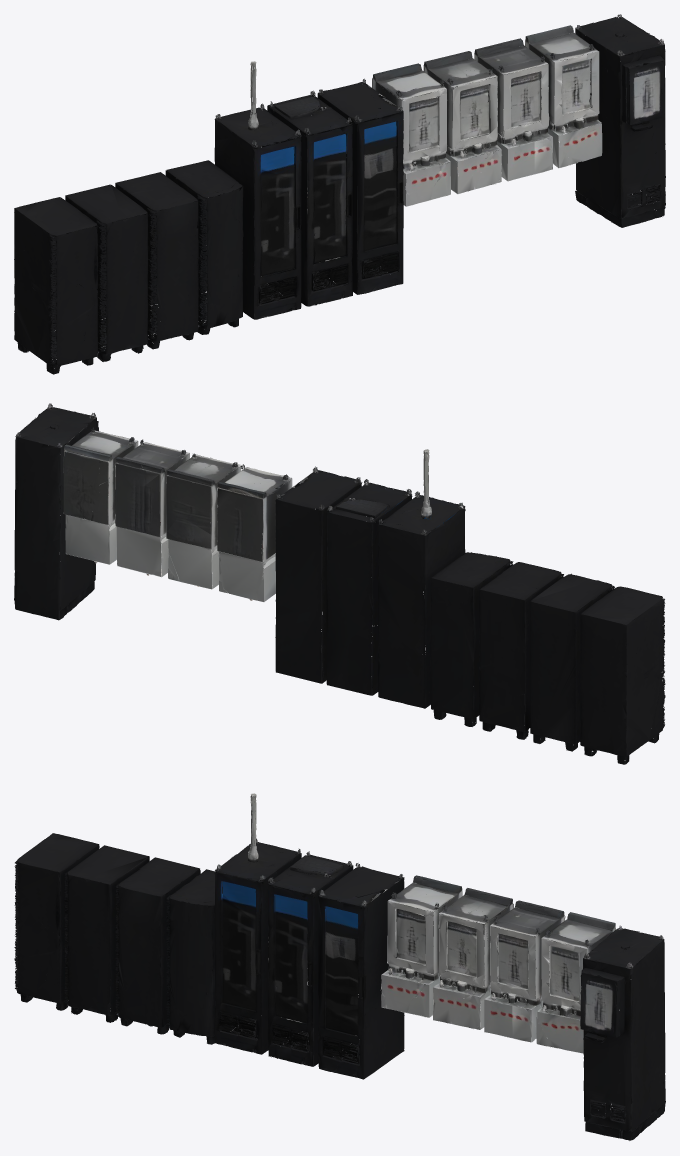
Rendered from pods.glb.
3 views of the same model, one above another, from view 1: azimuth 30°, elevation 25°; view 2: azimuth 150°, elevation 25°; view 3: azimuth 330°, elevation 25° (orthographic).
Parts seen in each view (by area): view 1: model; view 2: model; view 3: model.
Boxes of the visible parts, x1=… form: model: x1=14, y1=14, x2=665, y2=374; model: x1=14, y1=403, x2=665, y2=764; model: x1=14, y1=793, x2=665, y2=1140.
Size of the model in its own units: 1.9 by 0.7333 by 0.2627.
1 material, 1 textured.
